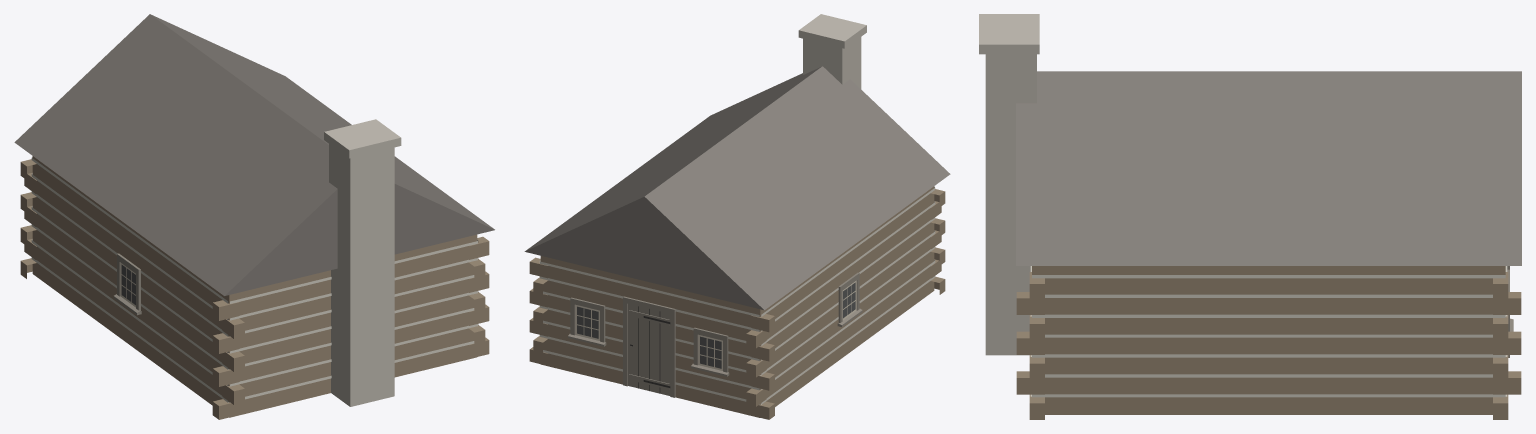
File: recon_1835_south_d1_018__inferred_1835.glb
The picture shows the model from 3 angles, left to right: view 1: azimuth 30°, elevation 25°; view 2: azimuth 150°, elevation 25°; view 3: azimuth 270°, elevation 25°; orthographic projection. The views are drawn at different scales.
Visible parts, largest first — view 1: recon_1835_south_d1_018__inferred_1835; view 2: recon_1835_south_d1_018__inferred_1835; view 3: recon_1835_south_d1_018__inferred_1835.
Boxes of the visible parts, x1,y1,x2,y2 form: recon_1835_south_d1_018__inferred_1835: (14,14,494,419); recon_1835_south_d1_018__inferred_1835: (524,14,950,419); recon_1835_south_d1_018__inferred_1835: (979,14,1521,419).
Size of the model in its own units: 5.85 by 5.35 by 8.42.
